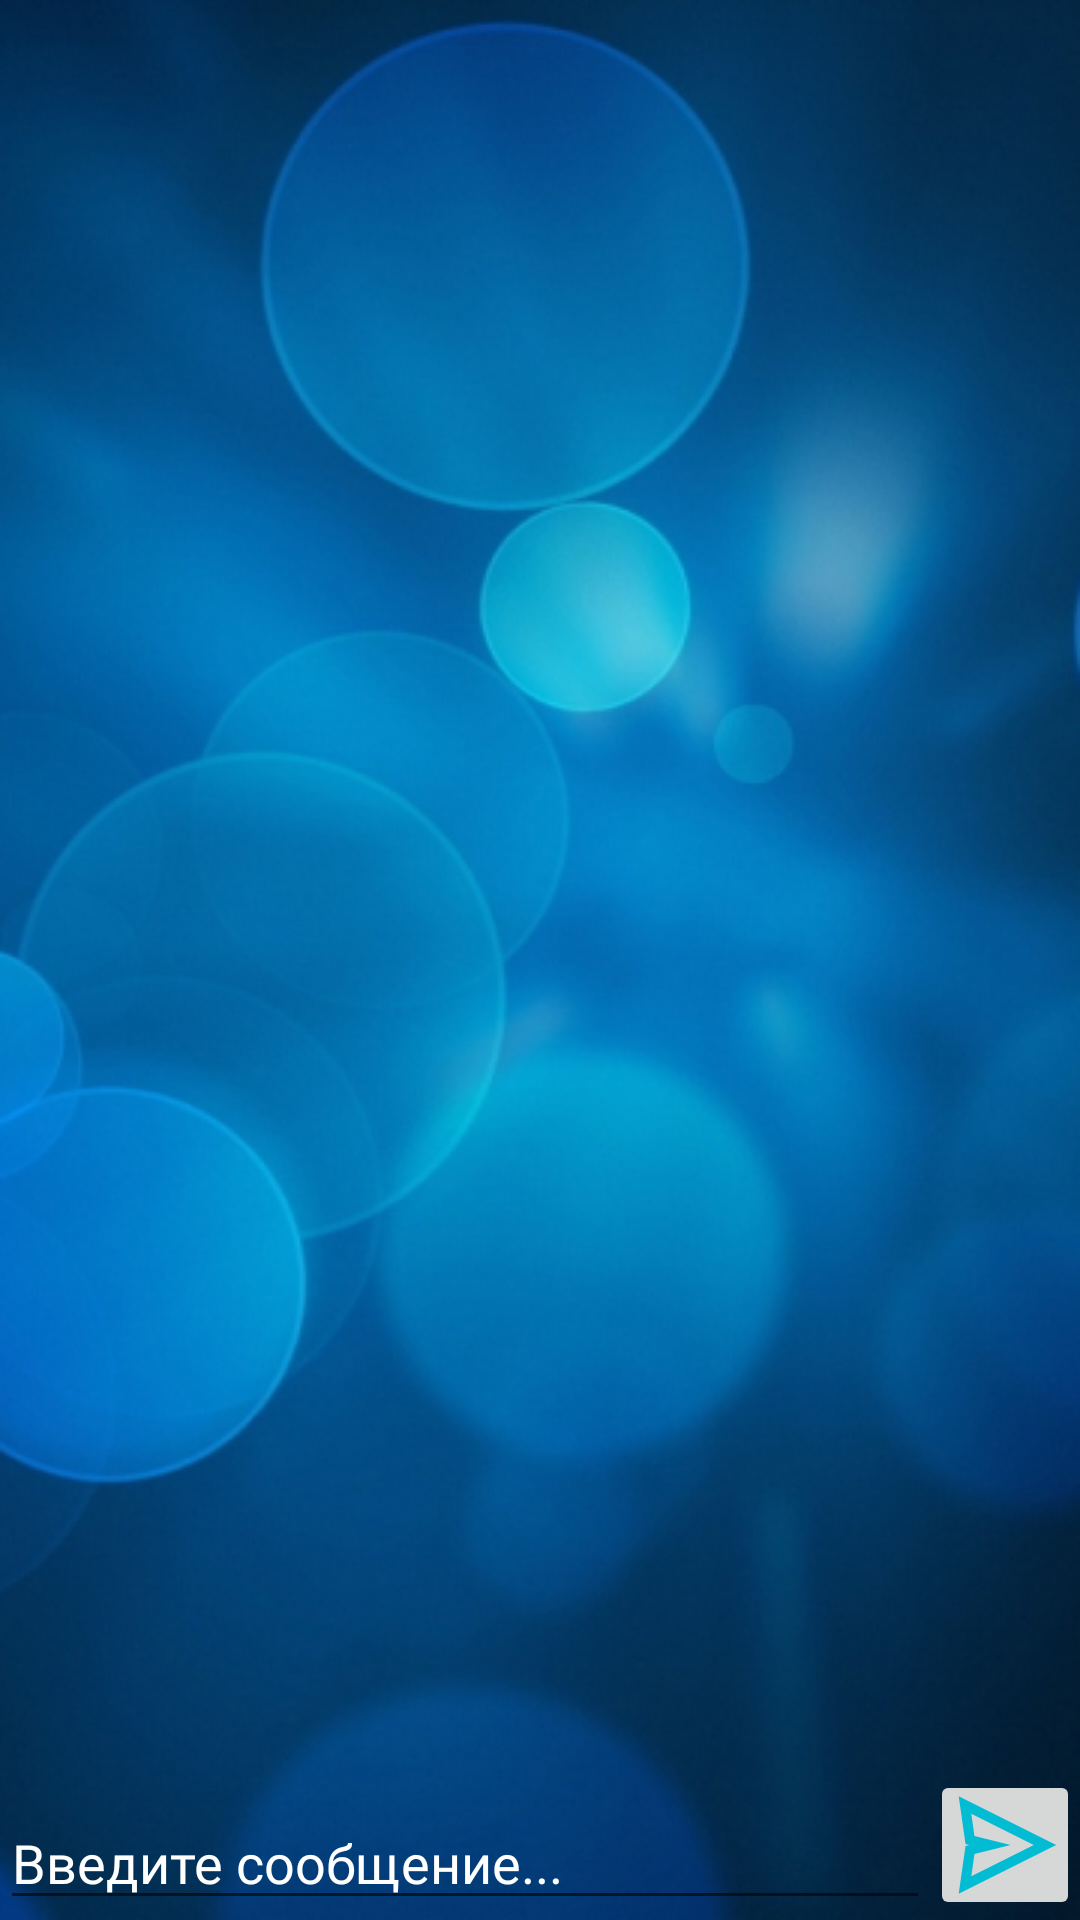

Screen size 1080 × 1920. Icon name, then its box in pixels as [x1=x1, y1=y1, x2=x2, y2=y2]:
send: [x1=942, y1=1788, x2=1068, y2=1902]
